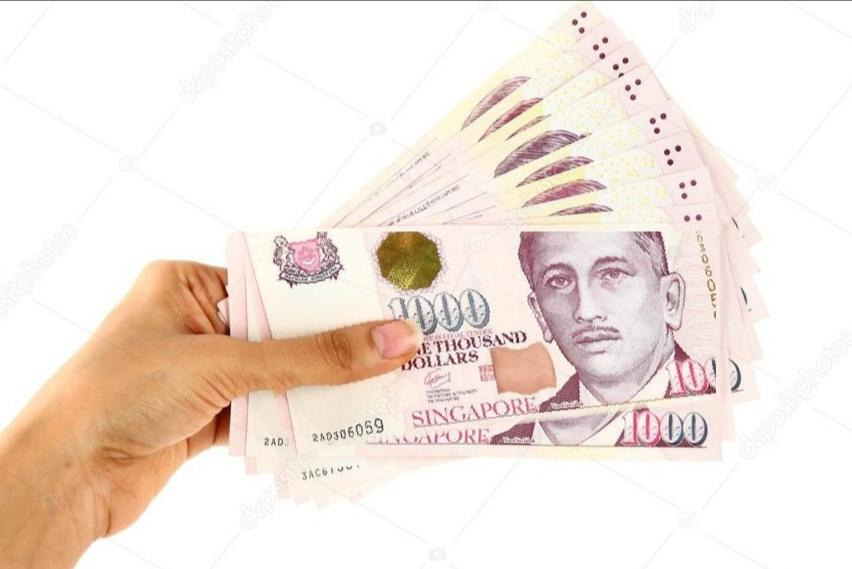1000SingaporeDollar: (236, 232, 717, 454)
